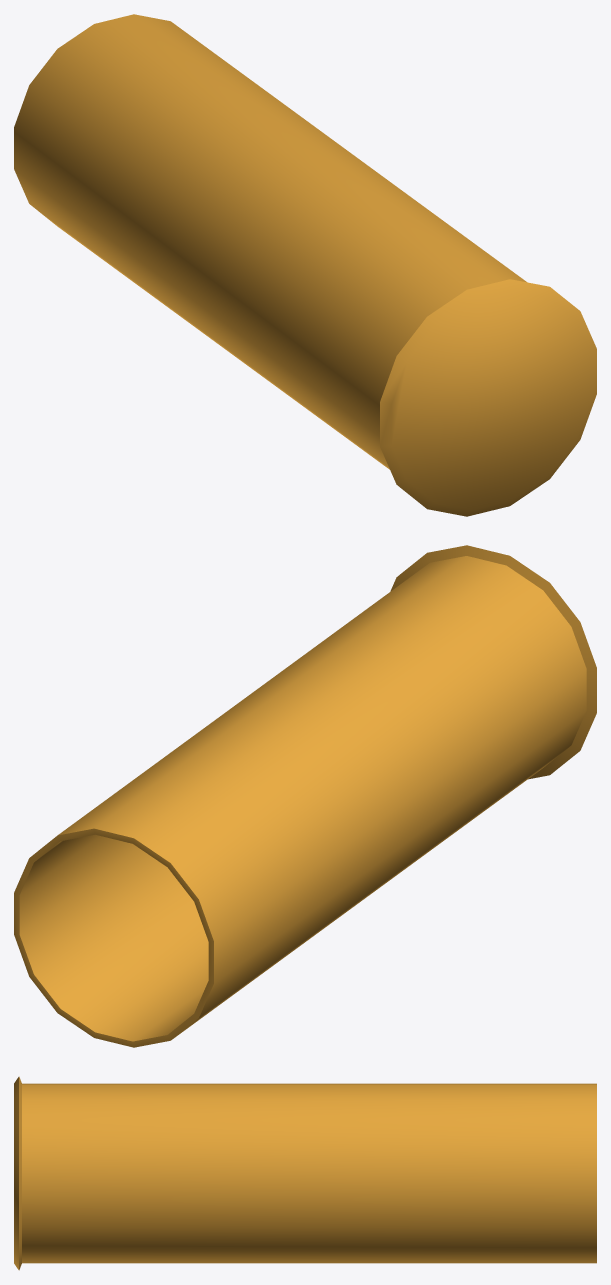
The model's file is 122_empty.fbx.
3 renders of one model, top to bottom at view 1: azimuth 30°, elevation 25°; view 2: azimuth 150°, elevation 25°; view 3: azimuth 270°, elevation 25°, orthographic. The views are drawn at different scales.
Visible parts, largest first — view 1: Case; view 2: Case; view 3: Case.
Boxes of the visible parts, x1=… form: Case: x1=14, y1=14, x2=596, y2=516; Case: x1=14, y1=545, x2=596, y2=1047; Case: x1=14, y1=1076, x2=596, y2=1270.
Bounding box in the file's own units: 99.46 × 99.46 × 300.
